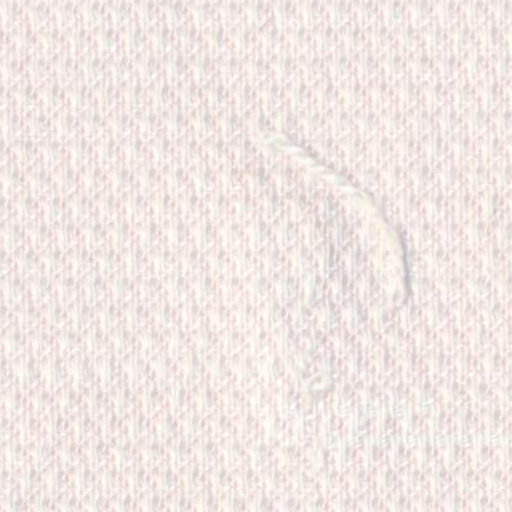DuanSha: (252, 110, 420, 355)
